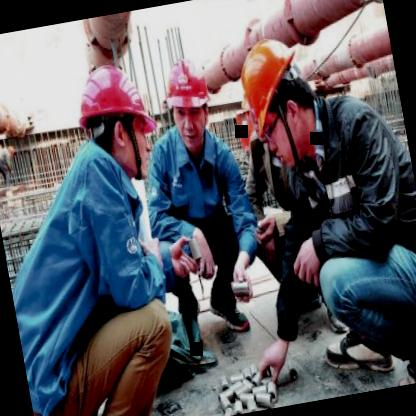helmet: (233, 27, 330, 172), (66, 52, 163, 181), (156, 44, 224, 156), (5, 142, 17, 157)
